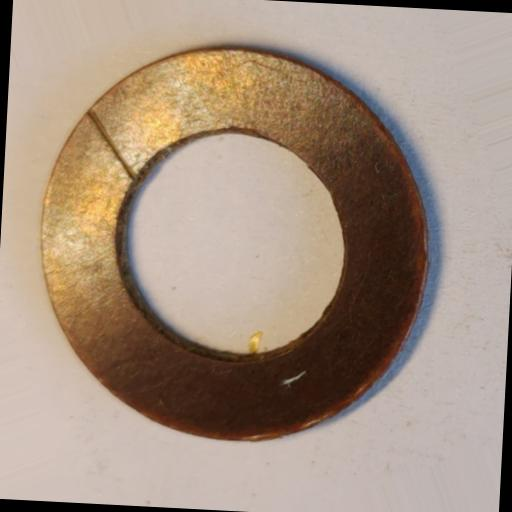defect: (83, 109, 141, 184)
